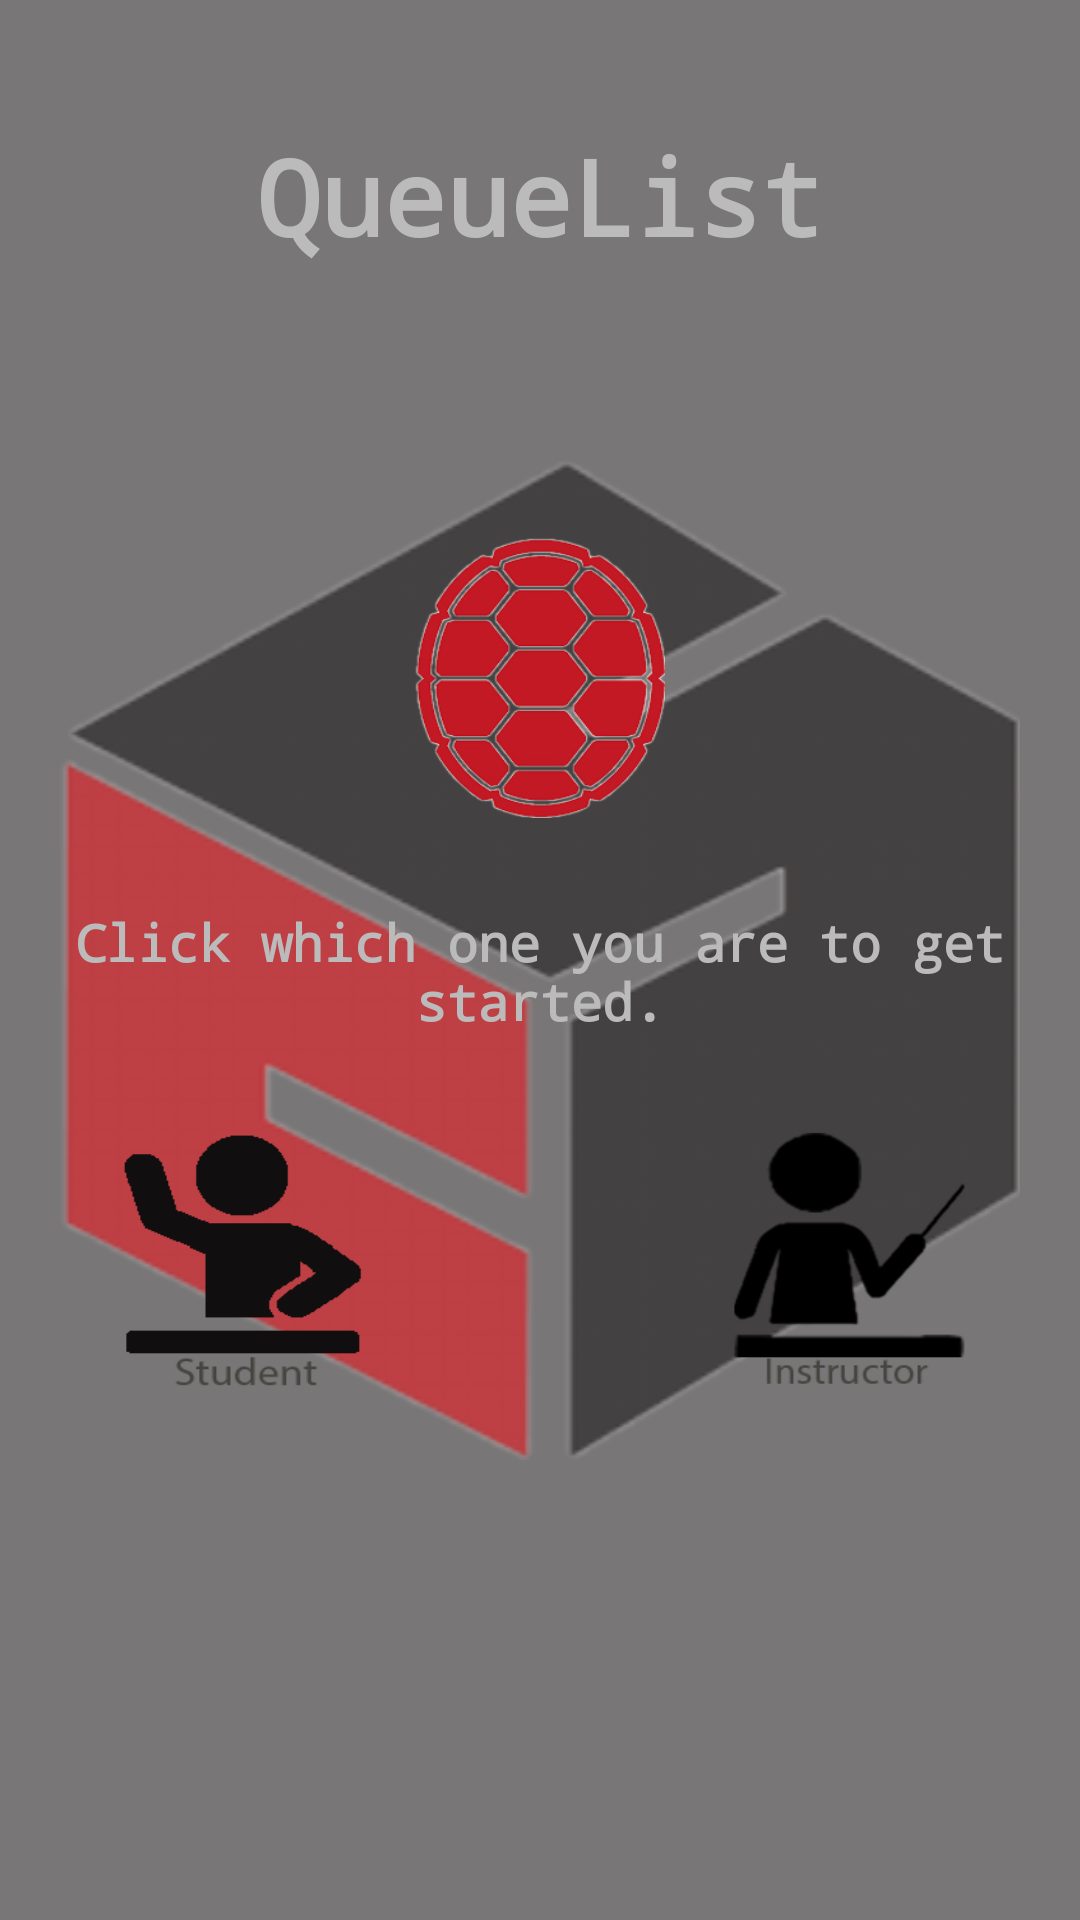

Locate icon controls on the screen. Image size 1080×1920, boxes as bbox=(x1, y1, x2, y2).
terp: bbox=(415, 538, 665, 818)
